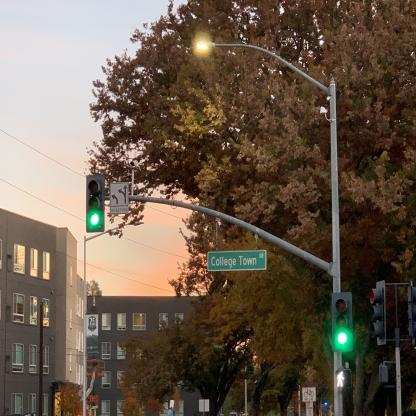green: (330, 292, 353, 352), (86, 174, 104, 232)
